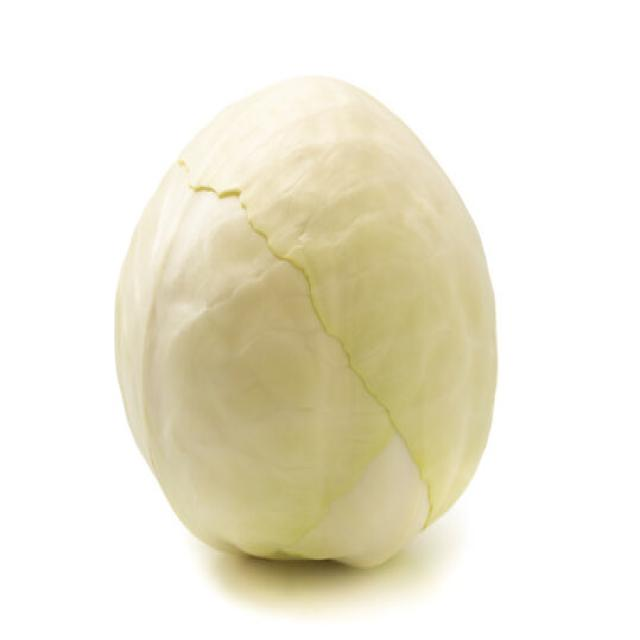Cabbage: (113, 71, 499, 569)
